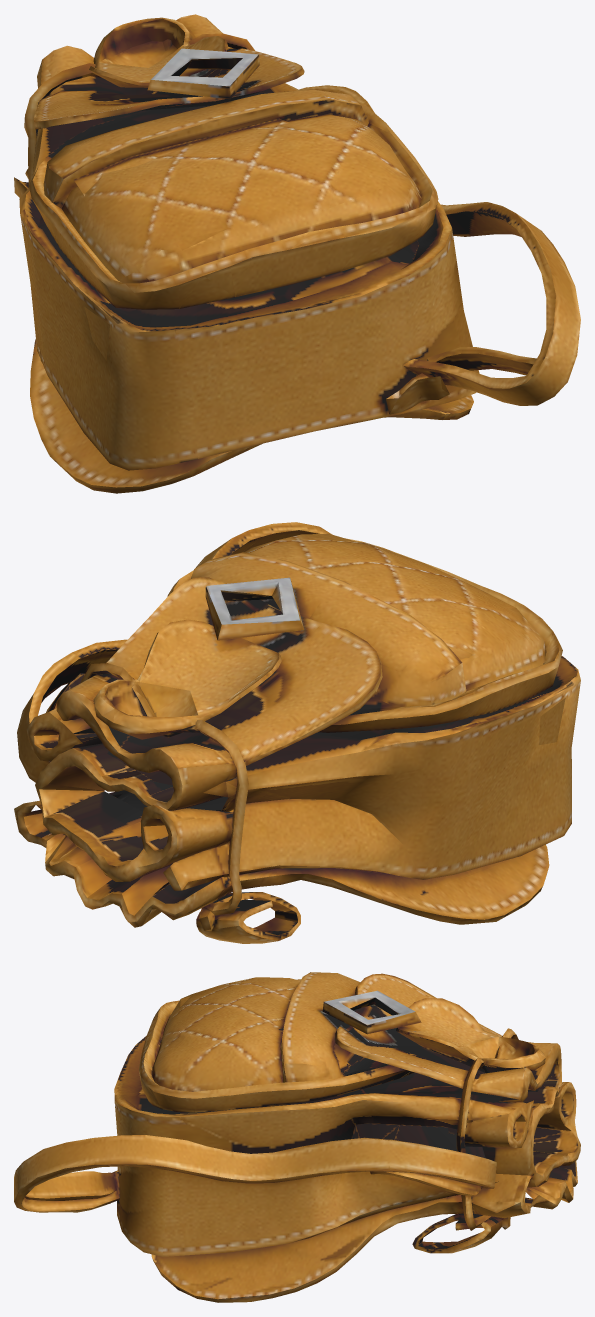
The model's file is item_pouch3.glb.
The picture shows the model from 3 angles, top to bottom: view 1: azimuth 30°, elevation 25°; view 2: azimuth 150°, elevation 25°; view 3: azimuth 270°, elevation 25°; orthographic projection. The views are drawn at different scales.
Visible parts, largest first — view 1: organic_pouch3; view 2: organic_pouch3; view 3: organic_pouch3.
Part boxes in pixels (x1,y1,x2,y2): organic_pouch3: [14, 14, 580, 493]; organic_pouch3: [14, 522, 580, 943]; organic_pouch3: [14, 972, 580, 1302].
Bounding box in the file's own units: 0.6415 × 0.4846 × 1.
1 material, 1 textured.
